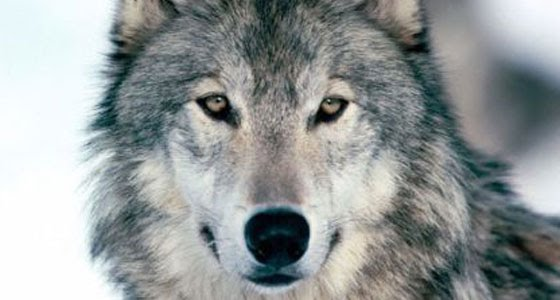Lobo: (99, 1, 503, 295)
